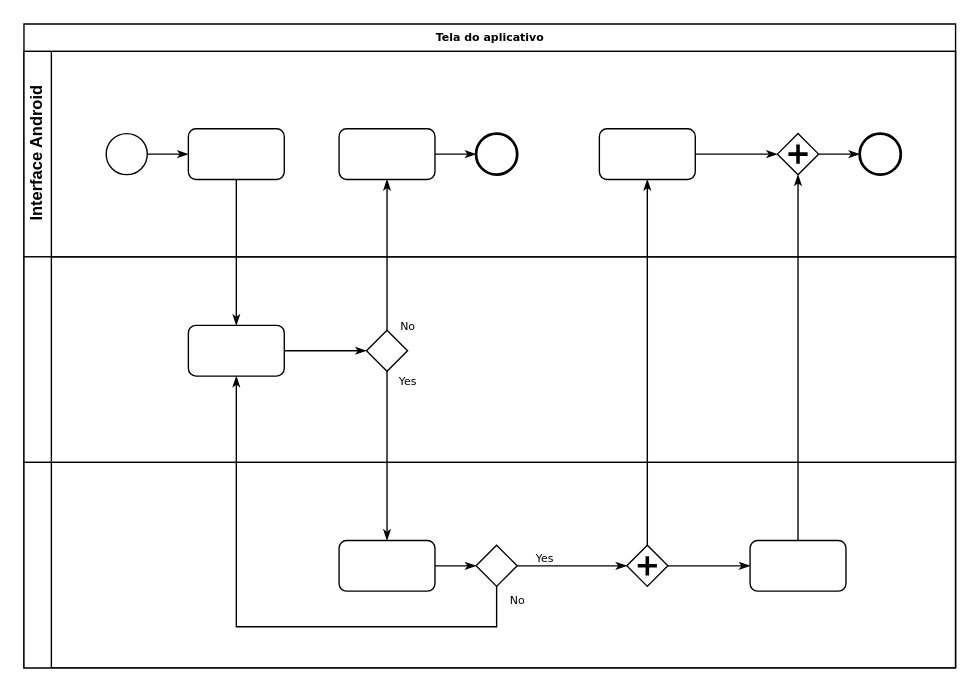
Image size: 980x692. Some labels were removed from this diagram. The box of each missing label's shape, as (x1, y1, x2, y2) in pixels:
Lane 2: (23, 256, 956, 462)
Lane 3: (23, 461, 956, 668)
